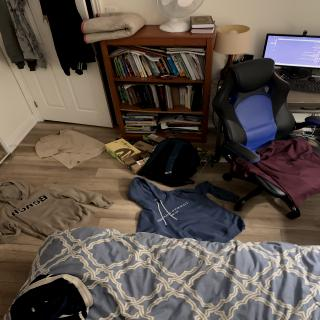Blue Hoodie: (124, 177, 245, 242)
Maroon T-Shirt: (247, 136, 320, 208)
Yellow Hoodie: (0, 177, 113, 248)
Yellow T-Shirt: (32, 127, 107, 171)
